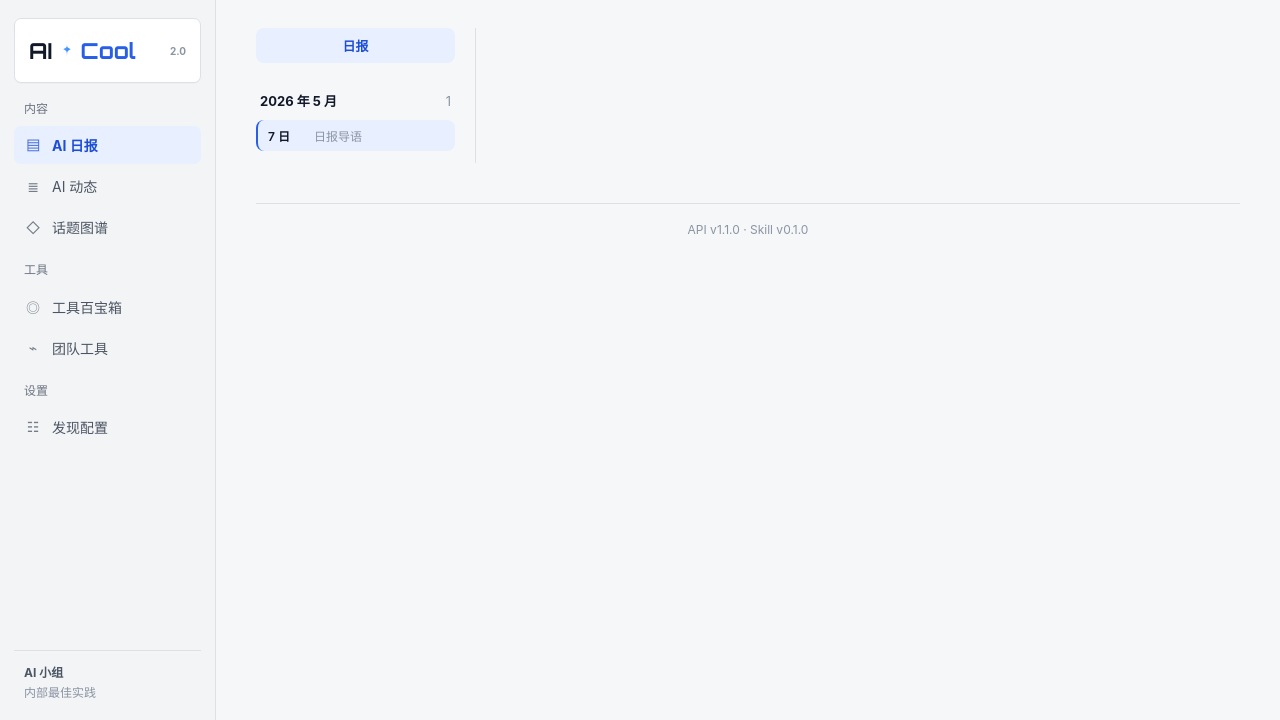
Test: switches to the standalone graph view
The image size is (1280, 720).
Expected: the text "日报导语" is shown, [314,129,362,144]
Click the button "◇ 话题图谱".
click(108, 227)  # box [14,208,201,246]
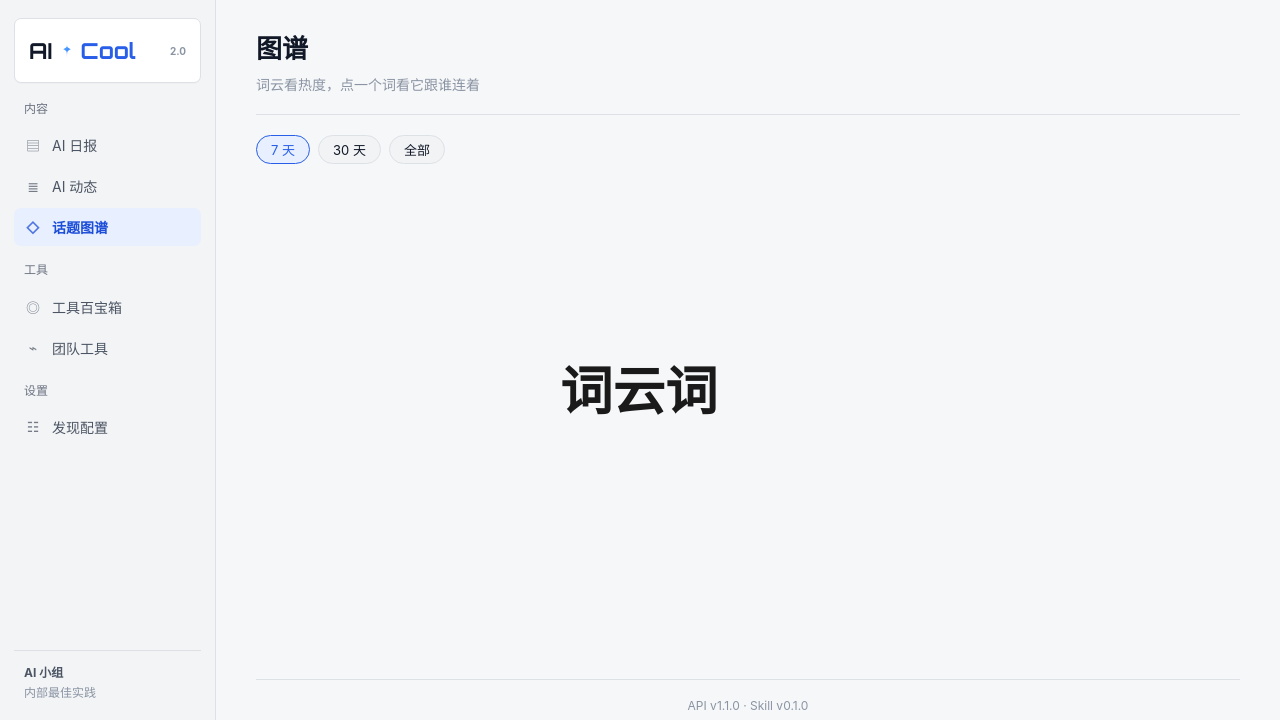
Expected: the text "词云看热度，点一个词看它跟谁连着" is shown, [256,76,480,93]
Expected: the button "日报导语" is gone
